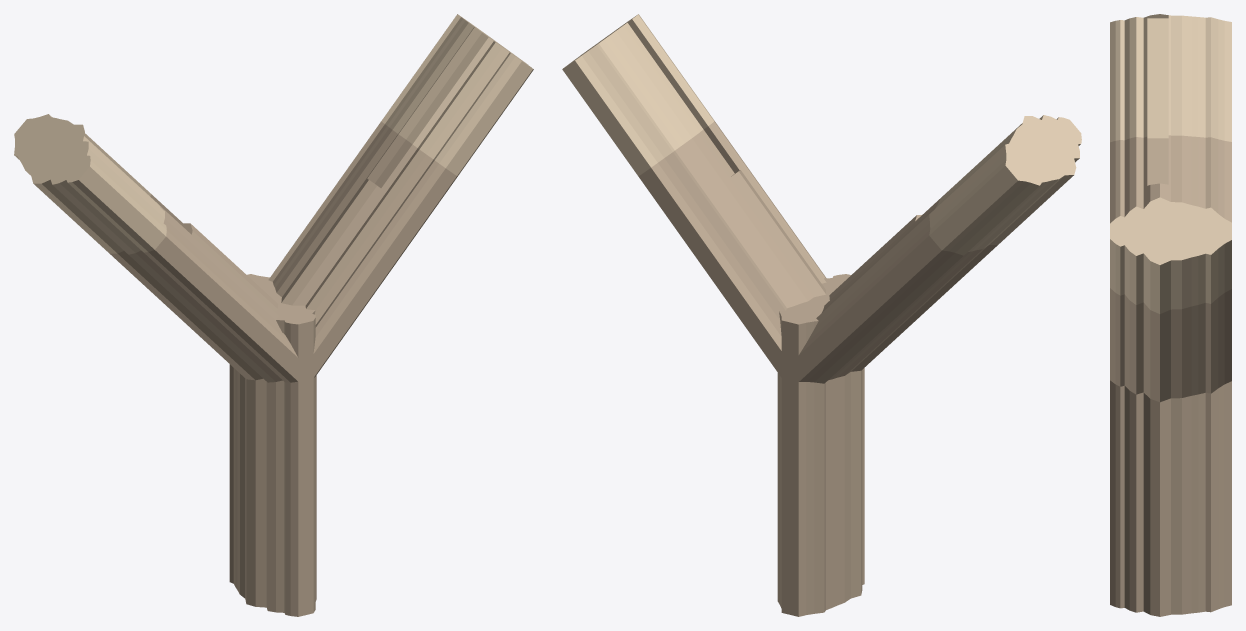
The model's file is R42_BRANCHING_JOINT_AND_REBATES.glb.
3 renders of one model, left to right at view 1: azimuth 30°, elevation 25°; view 2: azimuth 150°, elevation 25°; view 3: azimuth 270°, elevation 25°, orthographic. The views are drawn at different scales.
Parts seen in each view (by area): view 1: R42_Y_junction_ashlar, R42_extension_stone_2, R42_extension_stone_1; view 2: R42_Y_junction_ashlar, R42_extension_stone_2, R42_extension_stone_1; view 3: R42_Y_junction_ashlar, R42_extension_stone_1, R42_extension_stone_2.
Part boxes in pixels (x1=…): R42_Y_junction_ashlar: x1=110, y1=121, x2=457, y2=616; R42_extension_stone_2: x1=381, y1=14, x2=533, y2=176; R42_extension_stone_1: x1=14, y1=114, x2=166, y2=254; R42_Y_junction_ashlar: x1=638, y1=121, x2=997, y2=616; R42_extension_stone_2: x1=562, y1=14, x2=714, y2=176; R42_extension_stone_1: x1=929, y1=115, x2=1081, y2=255; R42_Y_junction_ashlar: x1=1110, y1=135, x2=1231, y2=616; R42_extension_stone_1: x1=1110, y1=14, x2=1231, y2=142; R42_extension_stone_2: x1=1110, y1=197, x2=1231, y2=313.
Size of the model in its own units: 0.7145 by 0.7192 by 0.16.
